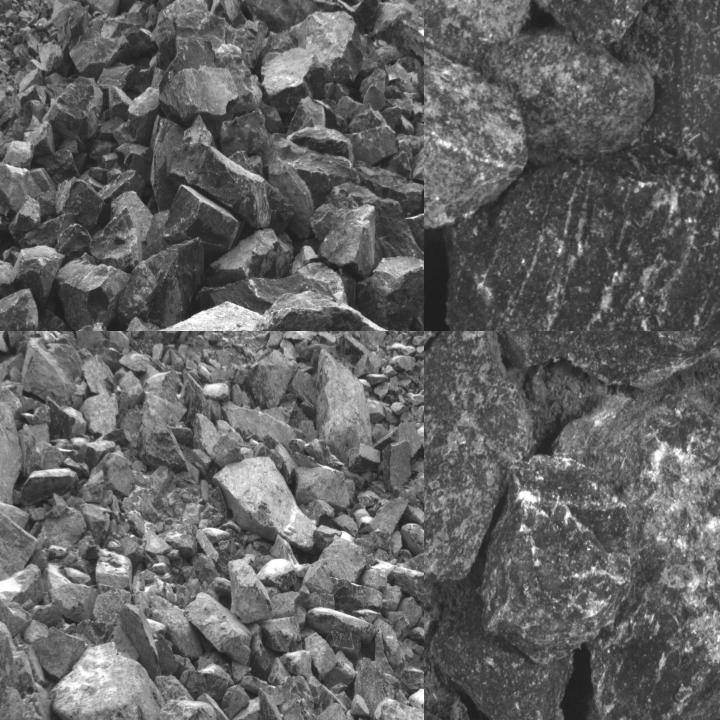stone: (554, 393, 719, 719), (444, 145, 719, 330), (481, 457, 635, 662), (424, 331, 534, 584), (480, 26, 655, 163), (424, 22, 528, 233), (432, 591, 574, 719), (494, 331, 719, 389), (169, 142, 295, 230), (46, 641, 183, 719), (214, 457, 317, 552), (117, 238, 208, 329), (204, 264, 356, 313), (330, 188, 423, 258), (158, 8, 227, 96), (163, 185, 243, 259), (55, 253, 131, 330), (160, 66, 239, 136), (249, 294, 399, 330), (295, 12, 362, 91), (317, 354, 371, 448), (208, 227, 294, 286), (221, 394, 318, 446), (182, 591, 251, 661), (283, 150, 360, 209), (360, 259, 423, 329), (44, 78, 103, 151), (261, 47, 325, 114), (318, 205, 374, 280), (90, 207, 143, 274), (0, 506, 41, 590), (241, 0, 339, 34), (358, 166, 421, 218), (10, 246, 60, 311), (217, 49, 263, 118), (244, 352, 298, 409), (114, 88, 165, 146), (135, 416, 186, 474), (152, 303, 261, 330), (228, 560, 273, 624), (70, 35, 132, 81), (56, 177, 110, 228), (0, 160, 44, 218), (0, 399, 24, 504), (17, 469, 78, 508), (356, 659, 395, 719), (225, 20, 268, 72), (270, 675, 315, 719), (382, 133, 423, 181), (344, 127, 397, 164), (331, 577, 382, 614), (176, 373, 210, 426), (0, 289, 39, 330), (286, 100, 326, 138), (55, 224, 92, 265), (47, 343, 84, 384), (382, 440, 411, 491), (360, 36, 398, 74), (387, 567, 423, 606), (405, 523, 423, 595), (160, 699, 224, 719), (97, 550, 132, 586), (305, 438, 345, 468), (131, 331, 177, 357), (310, 204, 340, 242), (326, 630, 363, 659), (309, 700, 364, 719), (347, 443, 381, 472), (93, 340, 122, 370), (0, 258, 13, 300)
